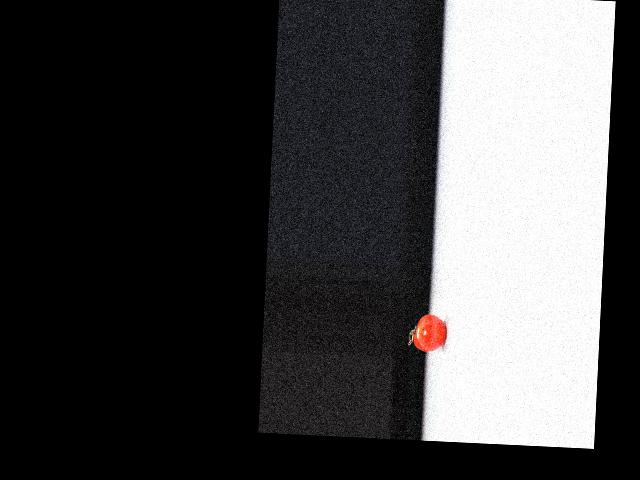tomato: (412, 313, 447, 352)
